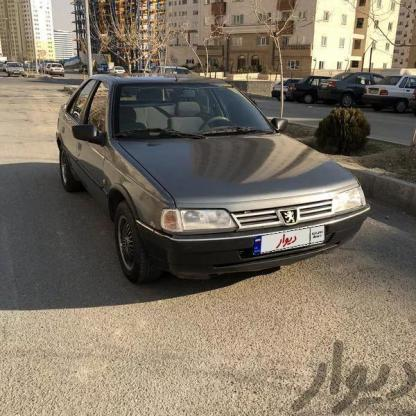Car: (46, 78, 370, 291), (259, 72, 321, 111), (369, 74, 416, 124), (325, 70, 375, 106), (4, 62, 25, 76), (49, 63, 68, 76), (108, 66, 128, 77)
